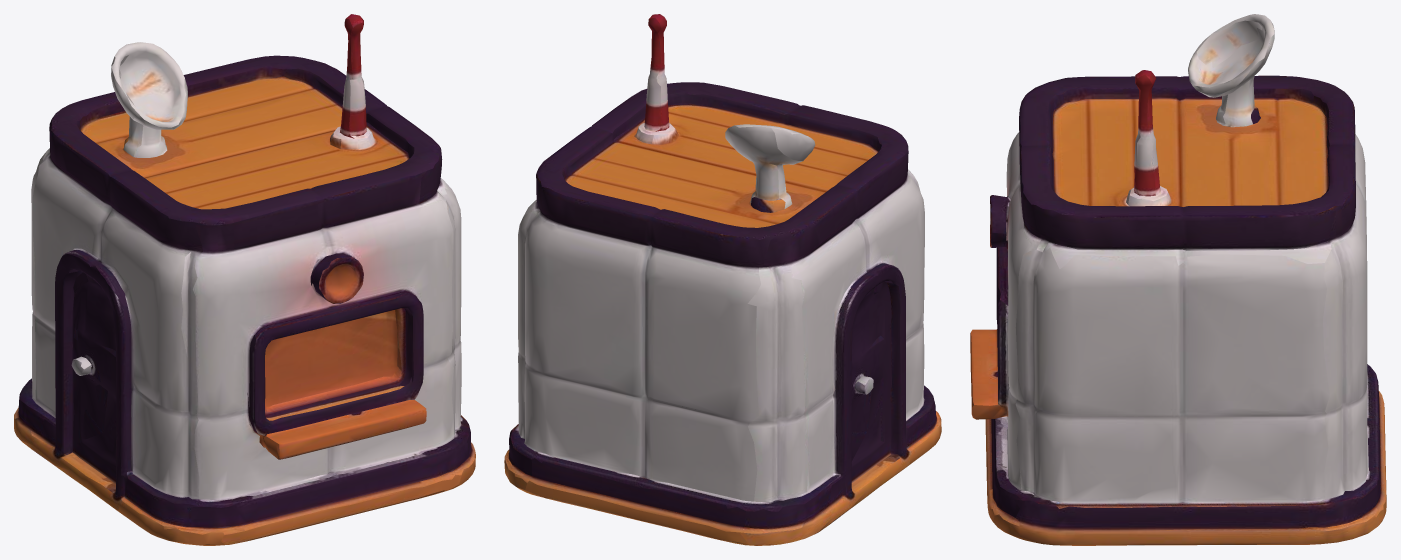
Rendered from radio_station.glb.
The picture shows the model from 3 angles, left to right: view 1: azimuth 30°, elevation 25°; view 2: azimuth 150°, elevation 25°; view 3: azimuth 270°, elevation 25°; orthographic projection. The views are drawn at different scales.
Parts seen in each view (by area): view 1: radio_station2; view 2: radio_station2; view 3: radio_station2.
Part boxes in pixels (box(x1,y1,x2,y2)): radio_station2: box(14, 14, 475, 545); radio_station2: box(504, 14, 941, 545); radio_station2: box(970, 14, 1386, 545).
Size of the model in its own units: 0.8012 by 1 by 0.8594.
Materials: 1 (1 with a texture image).
